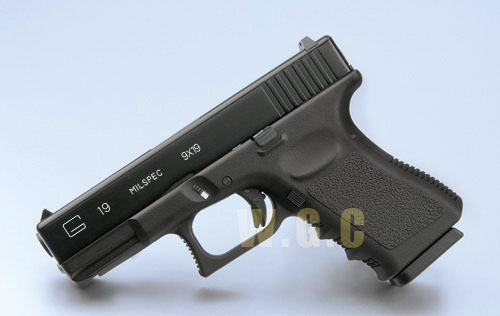gun: (29, 30, 472, 309)
